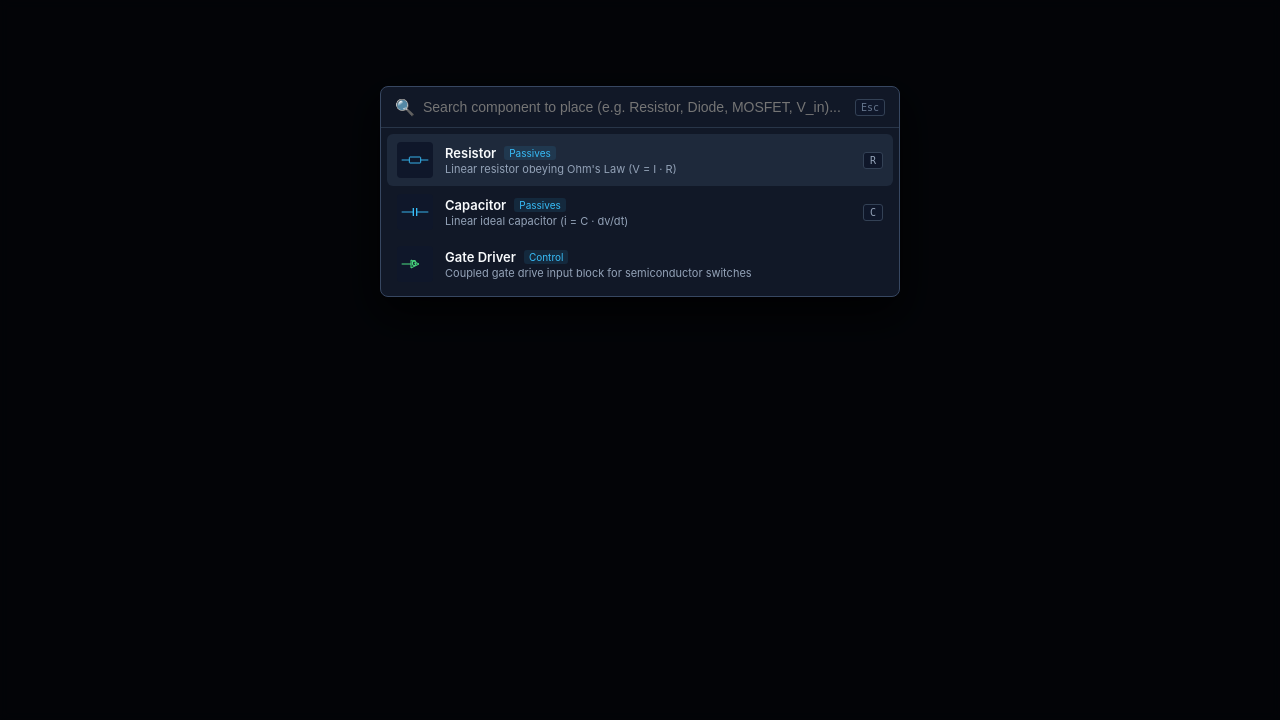
CommandPalette & getMatchScore › CommandPalette Component › shows empty state when no items match query
Replace the text in the field with placeholder "Search component to place" with "nonexistent-query-xyz": [635, 107] box [423,99,847,115]
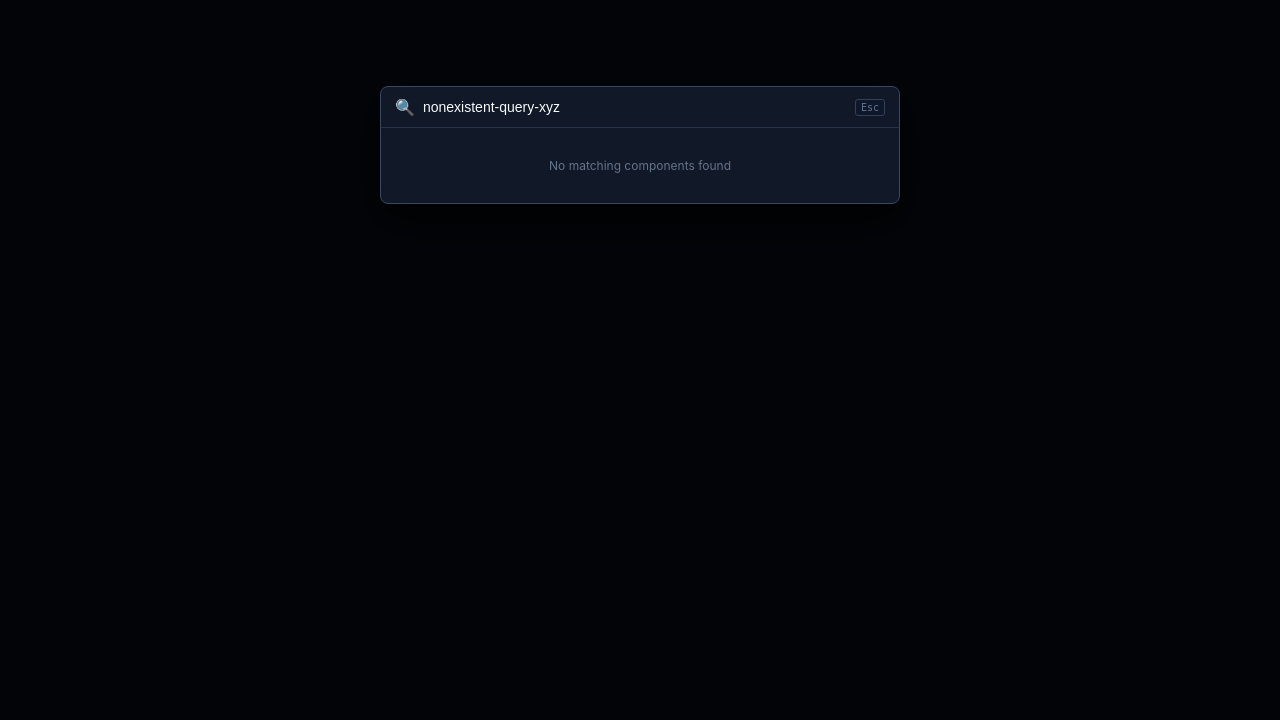
Check: the text "No matching components found" is shown, box [549,158,731,173]
